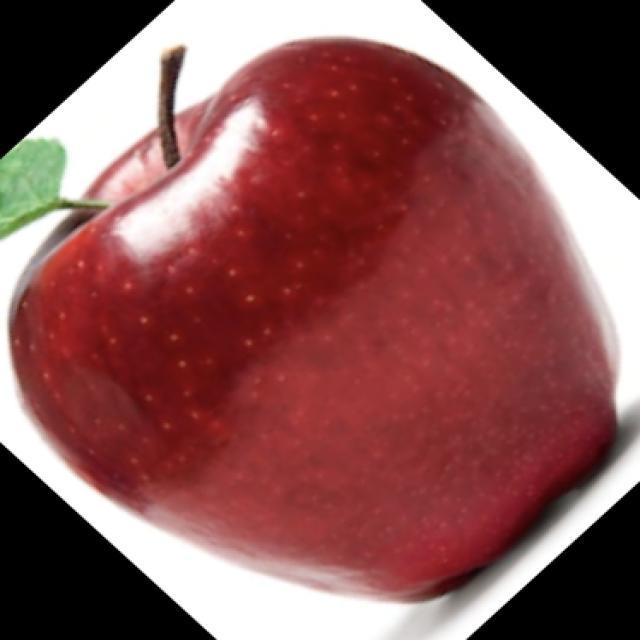Apple: (6, 34, 621, 604)
